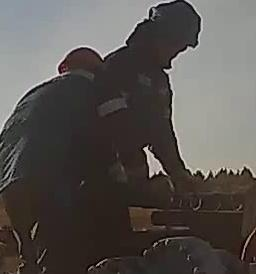gloves: (169, 162, 199, 199)
helmet: (57, 47, 103, 76)
vest: (1, 73, 97, 221), (103, 48, 179, 161)
